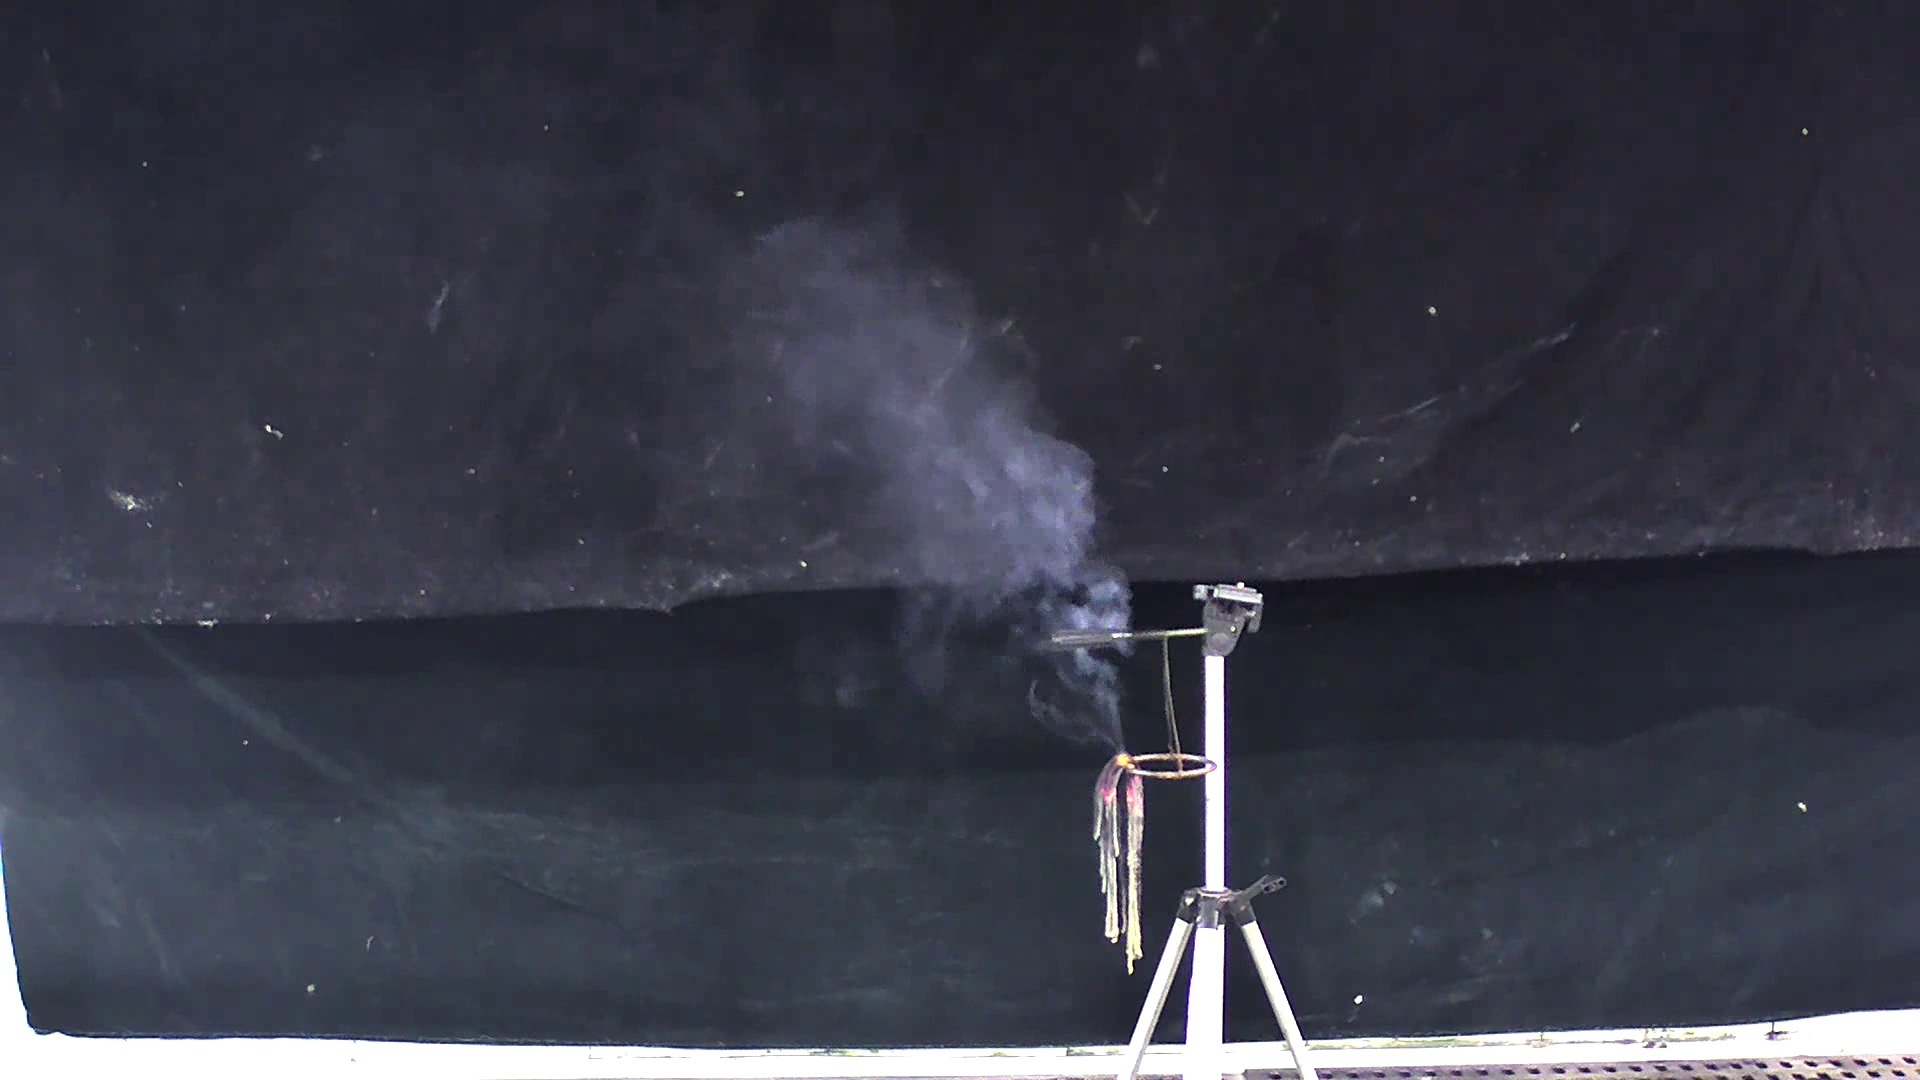smoke: (661, 199, 1135, 757)
